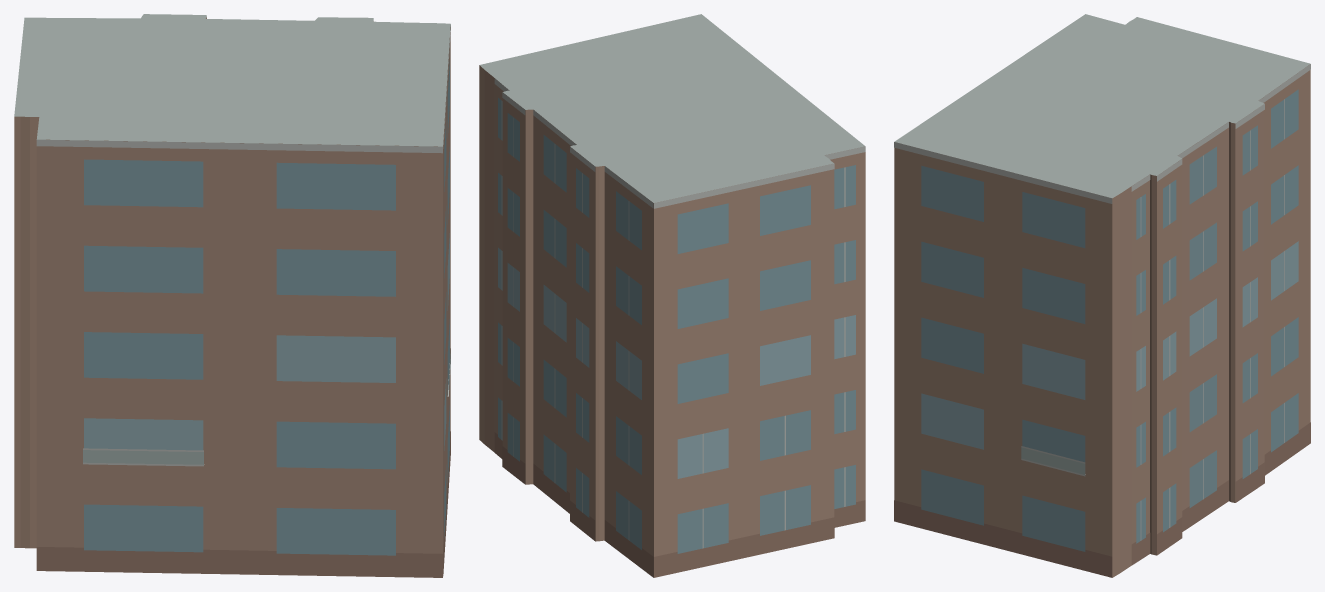
File: survey-upis-33008680.glb
The picture shows the model from 3 angles, left to right: view 1: azimuth 30°, elevation 25°; view 2: azimuth 150°, elevation 25°; view 3: azimuth 270°, elevation 25°; orthographic projection. The views are drawn at different scales.
Visible parts, largest first — view 1: survey-upis-33008680.tmp; view 2: survey-upis-33008680.tmp; view 3: survey-upis-33008680.tmp.
Boxes of the visible parts, x1,y1,x2,y2 form: survey-upis-33008680.tmp: (14,14,450,577); survey-upis-33008680.tmp: (479,14,865,577); survey-upis-33008680.tmp: (894,14,1310,577).
Size of the model in its own units: 16.52 by 15.85 by 15.78.
